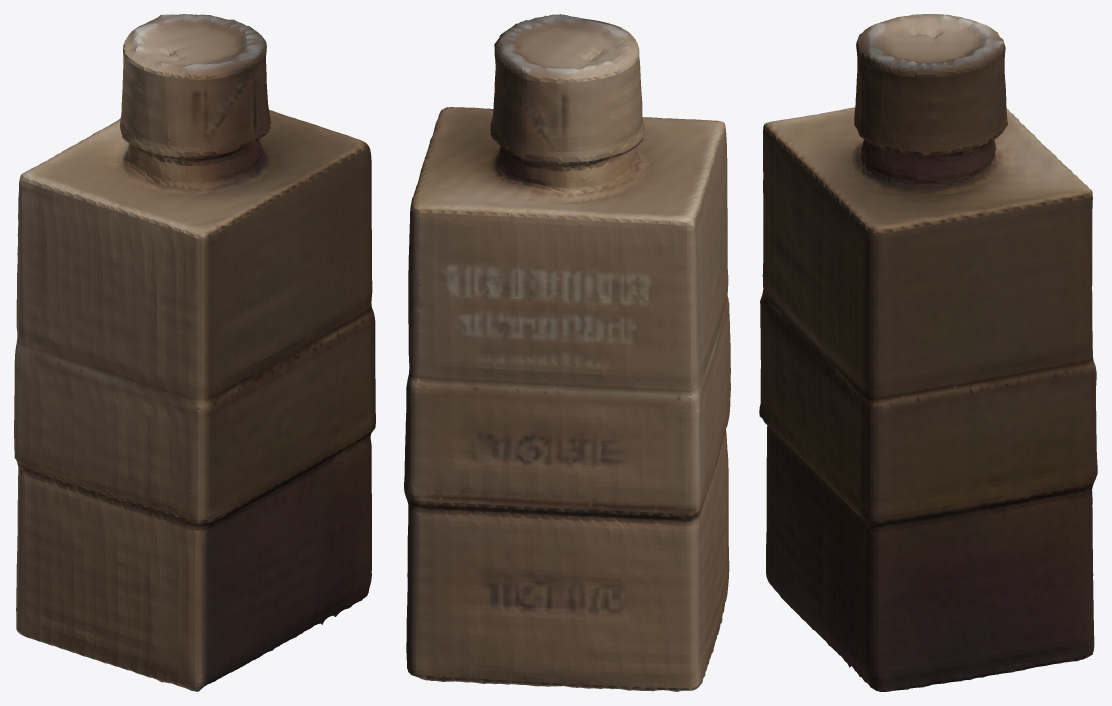
The model's file is product9.glb.
The picture shows the model from 3 angles, left to right: view 1: azimuth 30°, elevation 25°; view 2: azimuth 150°, elevation 25°; view 3: azimuth 270°, elevation 25°; orthographic projection. The views are drawn at different scales.
Parts seen in each view (by area): view 1: world; view 2: world; view 3: world.
Part boxes in pixels (<box>): world: <box>14,14,375,691</box>; world: <box>404,14,730,691</box>; world: <box>759,14,1097,691</box>.
Size of the model in its own units: 1.12 by 2.01 by 1.05.
